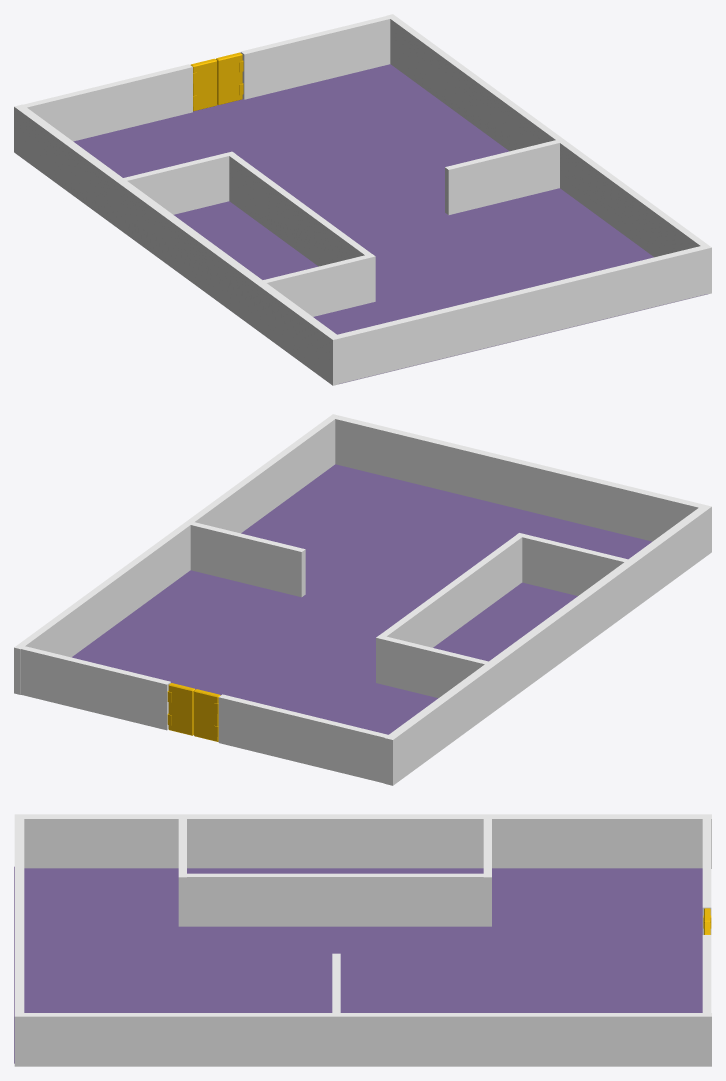
File: maps_70.fbx
3 views of the same model, one above another, from view 1: azimuth 30°, elevation 25°; view 2: azimuth 150°, elevation 25°; view 3: azimuth 270°, elevation 25° (orthographic). The views are drawn at different scales.
Parts seen in each view (by area): view 1: wall_01_08_geo, wall_01_05_geo, wall_01_07_geo, wall_01_06_geo, wall_01_09_geo1, wall_01_09_geo, wall_01_11_geo21, wall_01_11_geo22, wall_01_11_geo13, wall_01_11_geo23, polySurface161, polySurface165; view 2: wall_01_08_geo, wall_01_07_geo, wall_01_05_geo, wall_01_06_geo, wall_01_09_geo, wall_01_09_geo1, wall_01_11_geo21, wall_01_11_geo22, wall_01_11_geo23, wall_01_11_geo13, polySurface161, polySurface165; view 3: wall_01_08_geo, wall_01_06_geo, wall_01_07_geo, wall_01_11_geo21, wall_01_05_geo, wall_01_09_geo, wall_01_11_geo13, wall_01_11_geo23, wall_01_09_geo1, wall_01_11_geo22.
Boxes of the visible parts, x1,y1,x2,y2 form: wall_01_08_geo: [73, 64, 707, 383]; wall_01_05_geo: [337, 246, 705, 383]; wall_01_07_geo: [14, 104, 341, 385]; wall_01_06_geo: [386, 14, 711, 294]; wall_01_09_geo1: [240, 16, 390, 99]; wall_01_09_geo: [23, 64, 192, 141]; wall_01_11_geo21: [229, 154, 370, 266]; wall_01_11_geo22: [445, 140, 559, 214]; wall_01_11_geo13: [263, 253, 375, 316]; wall_01_11_geo23: [123, 151, 235, 214]; polySurface161: [215, 52, 243, 104]; polySurface165: [190, 58, 217, 111]; wall_01_08_geo: [72, 464, 651, 734]; wall_01_07_geo: [384, 504, 711, 785]; wall_01_05_geo: [335, 416, 703, 541]; wall_01_06_geo: [14, 414, 339, 694]; wall_01_09_geo: [218, 694, 388, 783]; wall_01_09_geo1: [21, 646, 170, 730]; wall_01_11_geo21: [380, 535, 522, 647]; wall_01_11_geo22: [190, 522, 305, 597]; wall_01_11_geo23: [376, 635, 488, 698]; wall_01_11_geo13: [516, 533, 627, 595]; polySurface161: [167, 683, 195, 735]; polySurface165: [194, 689, 220, 741]; wall_01_08_geo: [14, 866, 702, 1063]; wall_01_06_geo: [14, 1013, 711, 1066]; wall_01_07_geo: [14, 814, 711, 868]; wall_01_11_geo21: [187, 873, 483, 926]; wall_01_05_geo: [14, 818, 24, 1012]; wall_01_09_geo: [702, 819, 711, 934]; wall_01_11_geo13: [178, 819, 186, 926]; wall_01_11_geo23: [483, 819, 491, 926]; wall_01_09_geo1: [702, 935, 711, 1012]; wall_01_11_geo22: [332, 953, 340, 1012].
Bounding box in the file's own units: 76.85 × 8.89 × 112.
Materials: 2 (2 with a texture image).
